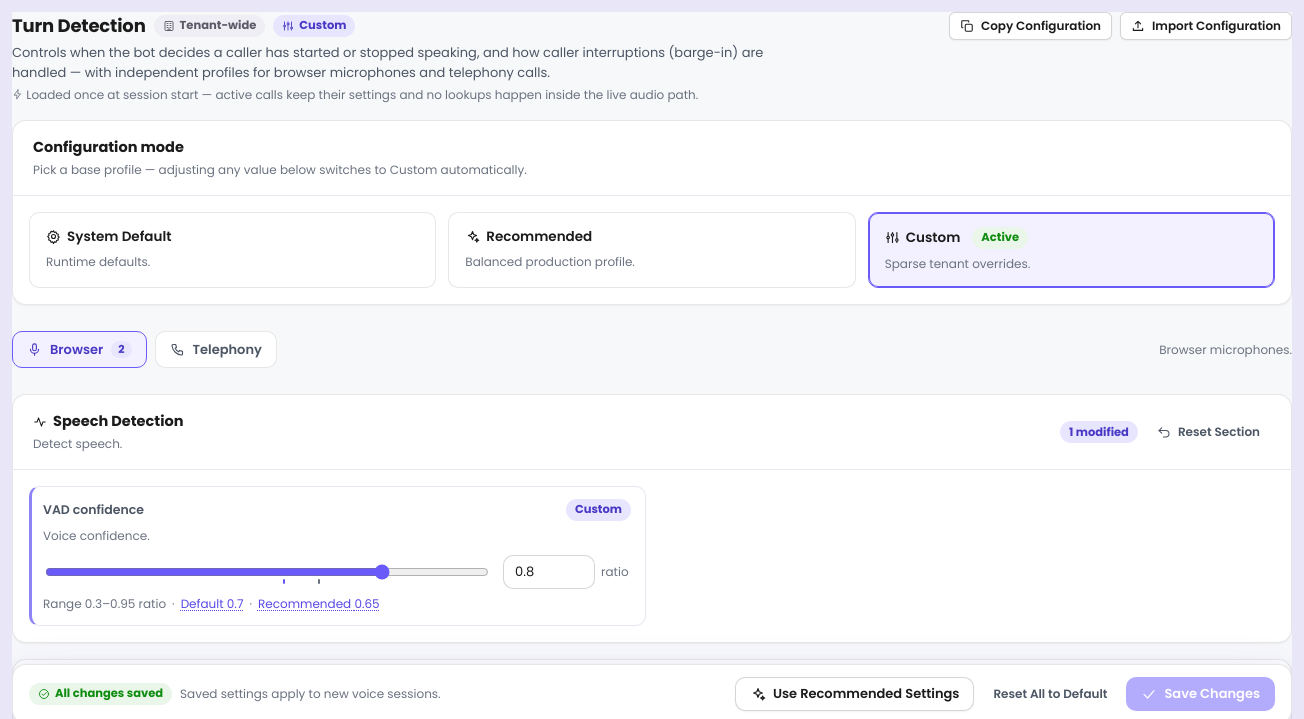
TurnDetectionTab › never allows a custom value outside the server-provided bounds
Replace the text in the number field named "VAD confidence value" with "2" at (549, 572), box [503,555,595,589]
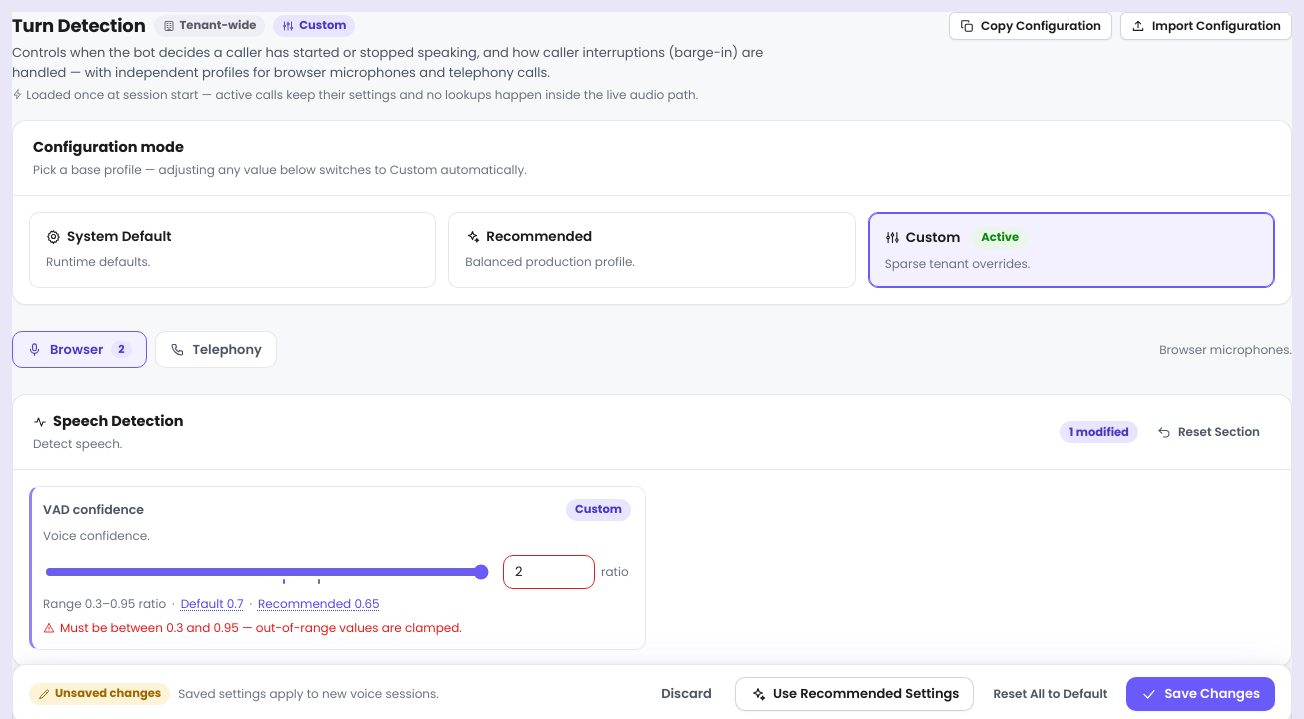
Now the slider named "VAD confidence slider" holds "0.95", box [45,564,489,580]
Leave the number field named "VAD confidence value", box [503,555,595,589]
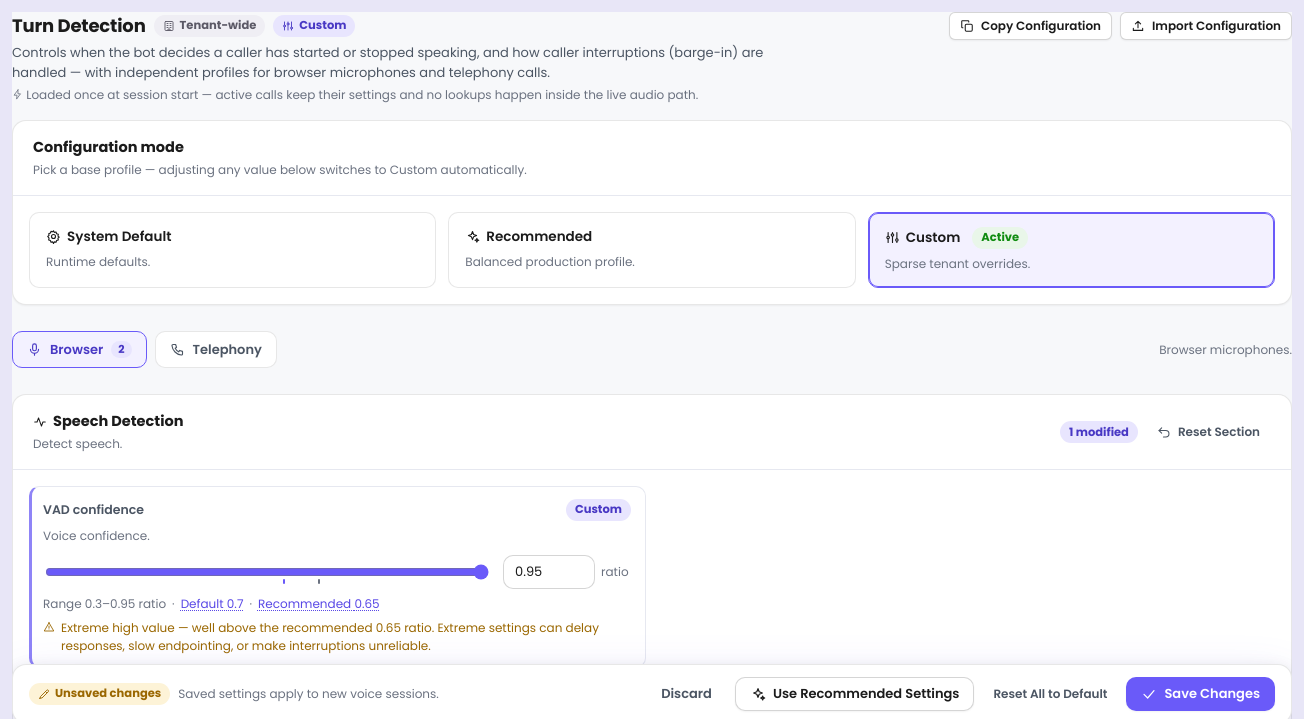
Now the number field named "VAD confidence value" holds "0.95", box [503,555,595,589]
